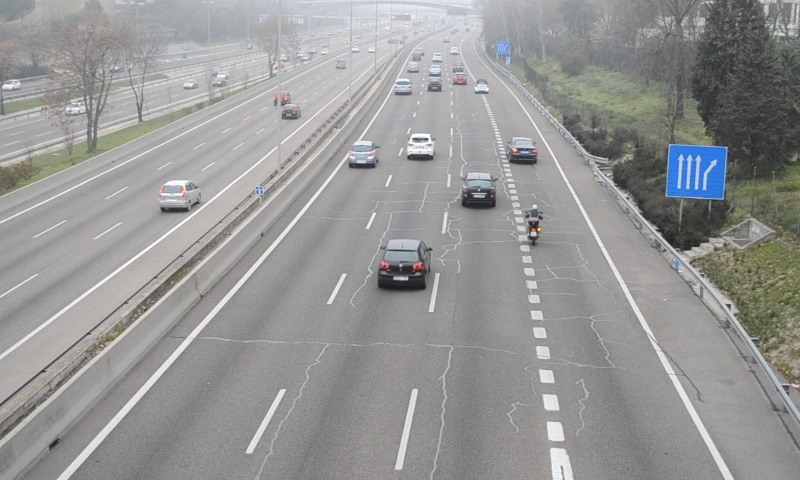car: (378, 239, 430, 286), (462, 173, 498, 207), (506, 136, 537, 163), (406, 132, 436, 159), (348, 140, 379, 166), (394, 78, 414, 96), (475, 78, 489, 94)
motorcycle: (524, 202, 544, 246)
